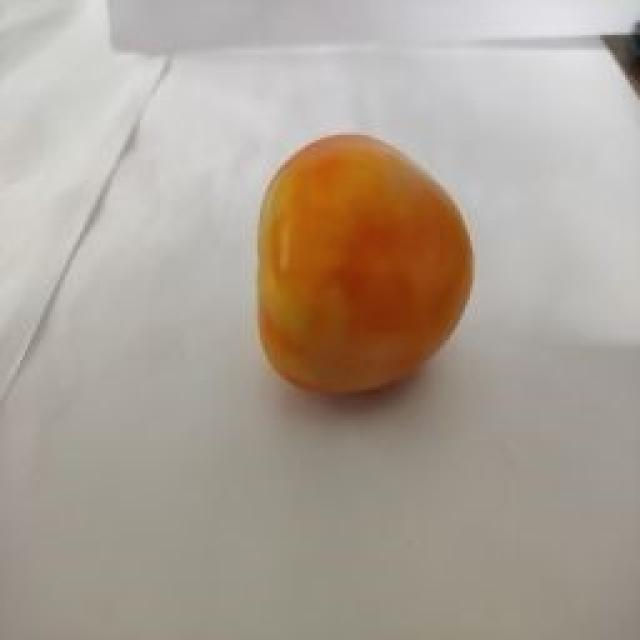unripe: (218, 135, 428, 387)
